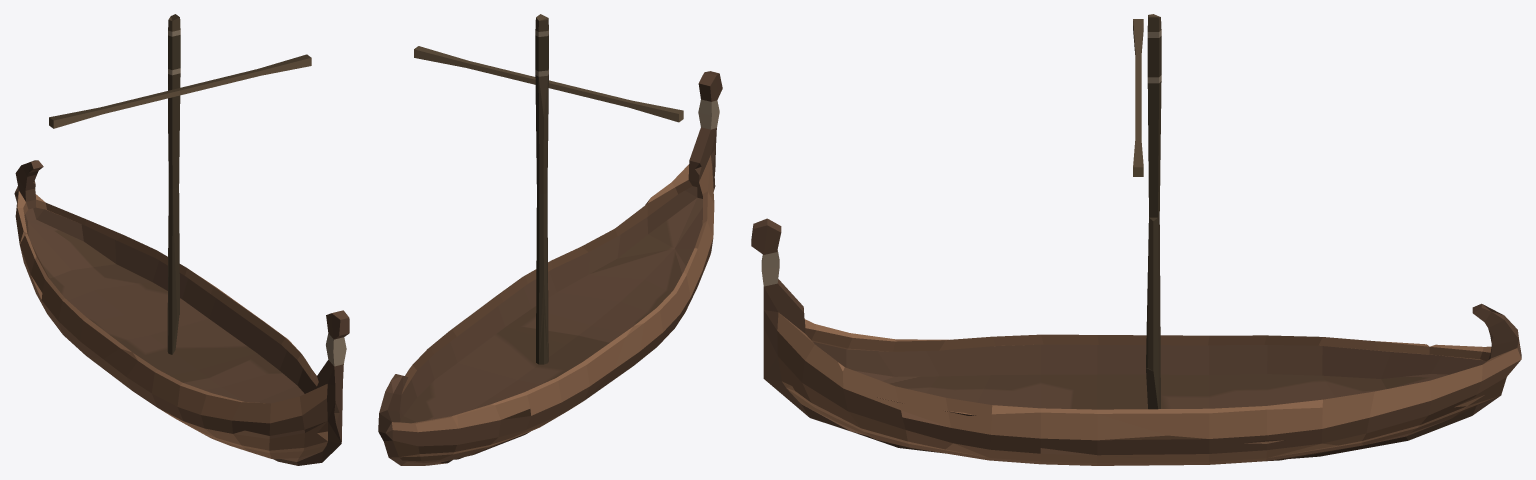
Rendered from SM_Veh_Boat_Large_01_Collision.fbx.
The picture shows the model from 3 angles, left to right: view 1: azimuth 30°, elevation 25°; view 2: azimuth 150°, elevation 25°; view 3: azimuth 270°, elevation 25°; orthographic projection. The views are drawn at different scales.
Visible parts, largest first — view 1: SM_Veh_Boat_Large_01_Collision; view 2: SM_Veh_Boat_Large_01_Collision; view 3: SM_Veh_Boat_Large_01_Collision.
Boxes of the visible parts, <box> form: SM_Veh_Boat_Large_01_Collision: <box>14,14,349,465</box>; SM_Veh_Boat_Large_01_Collision: <box>378,14,722,465</box>; SM_Veh_Boat_Large_01_Collision: <box>751,14,1521,465</box>.
Size of the model in its own units: 672 by 943 by 1474.
